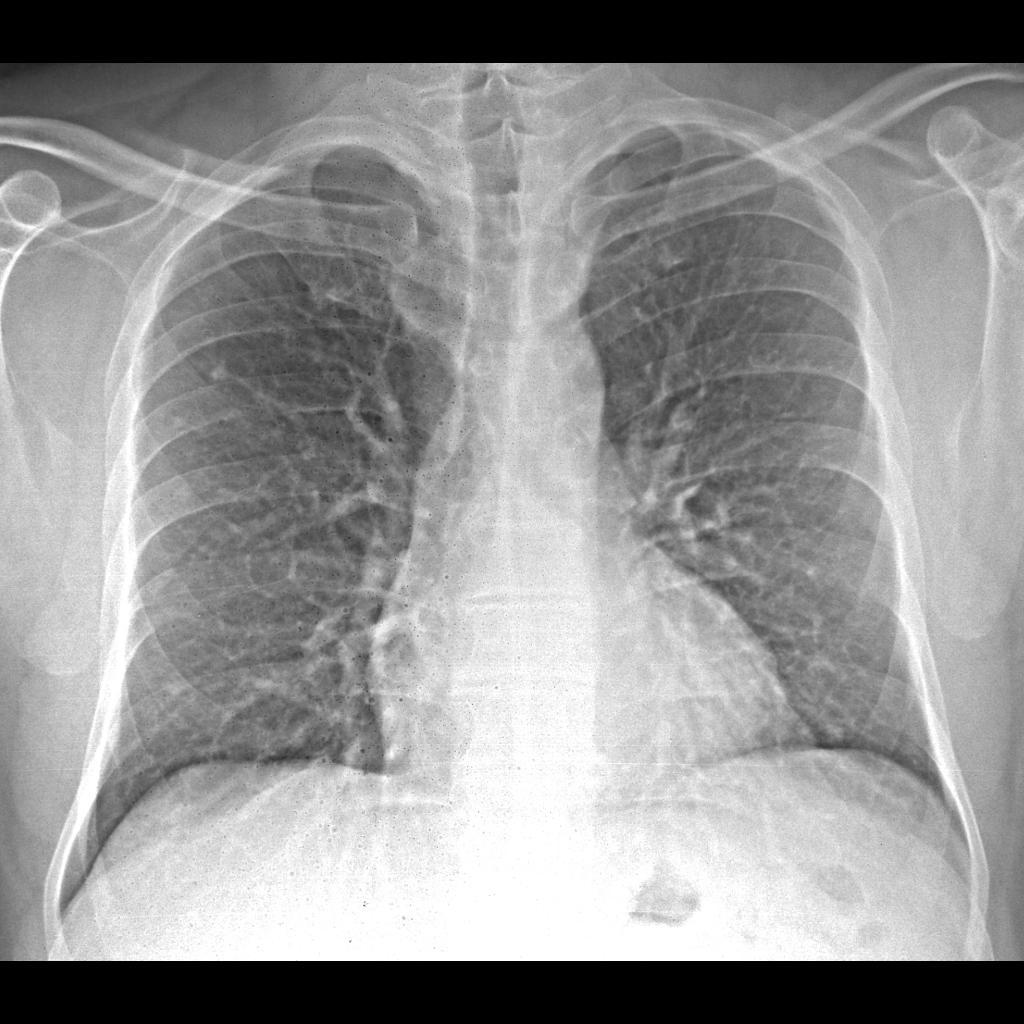Nodule: (202, 359, 243, 389)
